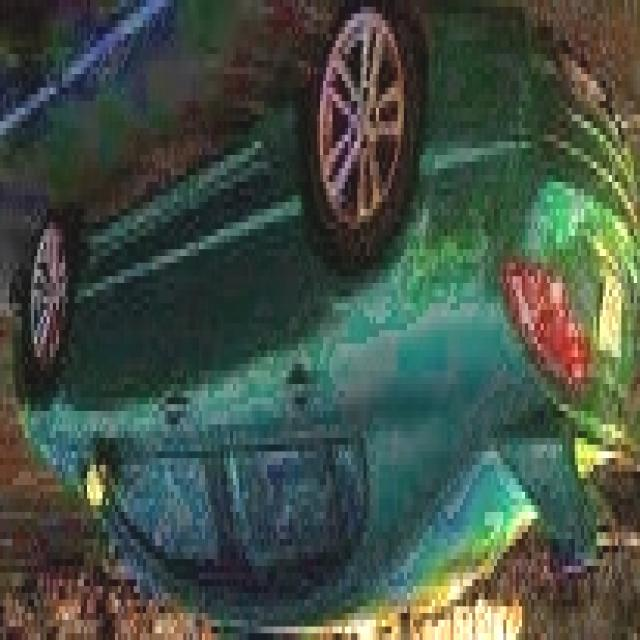green: (12, 0, 640, 627)
